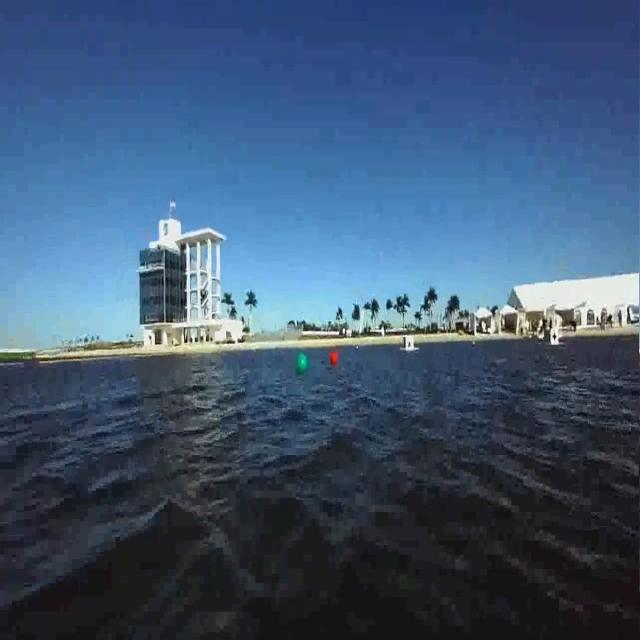green-buoy: (295, 352, 308, 373)
red-buoy: (326, 346, 343, 372)
